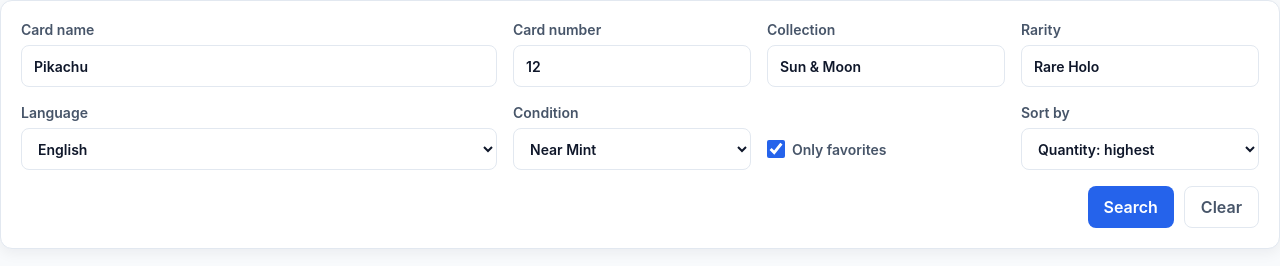
it: CardCollectionFilters › should clear all filters
Click the button "Clear" at (1221, 207), box top-left (1184, 186), bottom-right (1259, 228)
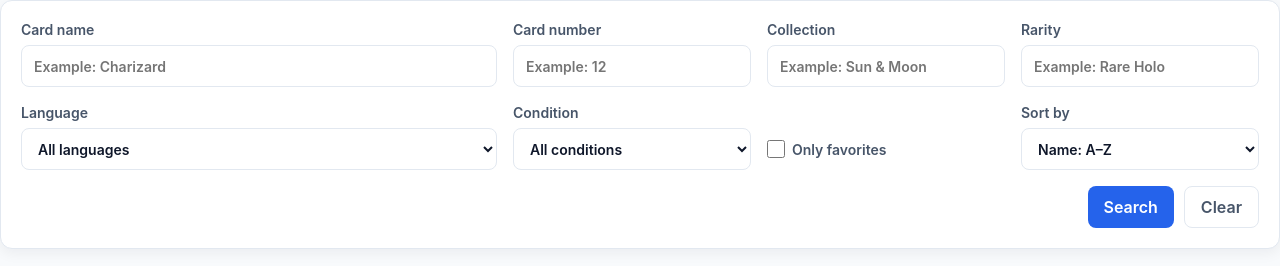
Result: the search field with placeholder "Example: Charizard" is empty at top-left (21, 45), bottom-right (497, 87)
Result: the search field with placeholder "Example: 12" is empty at top-left (513, 45), bottom-right (751, 87)
Result: the search field with placeholder "Example: Sun & Moon" is empty at top-left (767, 45), bottom-right (1005, 87)
